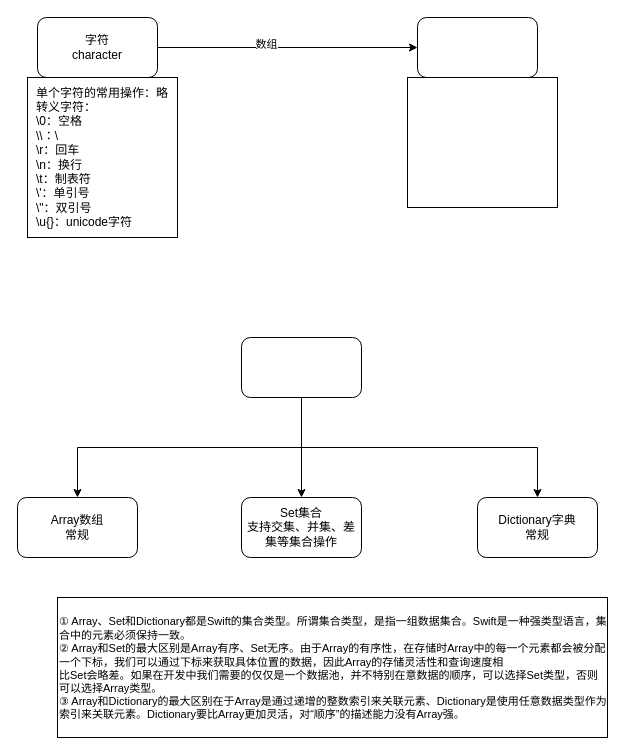
Image size: 625x755. Some labels were removed from this diagram. Each missing label, with the box of its shape:
字符串 String: (416, 16, 538, 78)
字符串常用操作：略 拼接操作： +：末尾拼接 \()：任意位置拼接: (406, 76, 558, 208)
集合类型: (240, 336, 362, 398)
